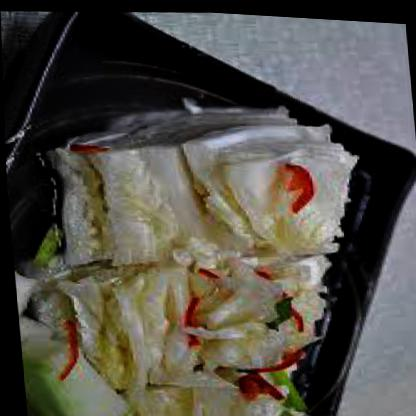baek Kimchi: (2, 100, 366, 415)
